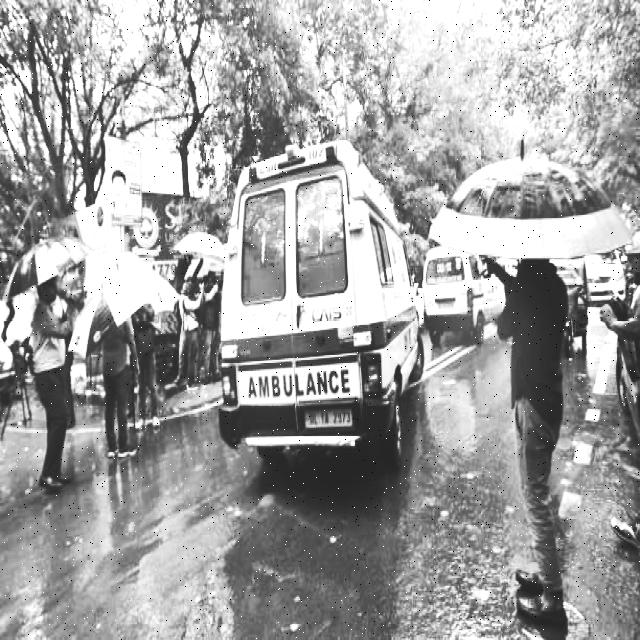Ambulance: (234, 126, 341, 339), (229, 356, 353, 429)
